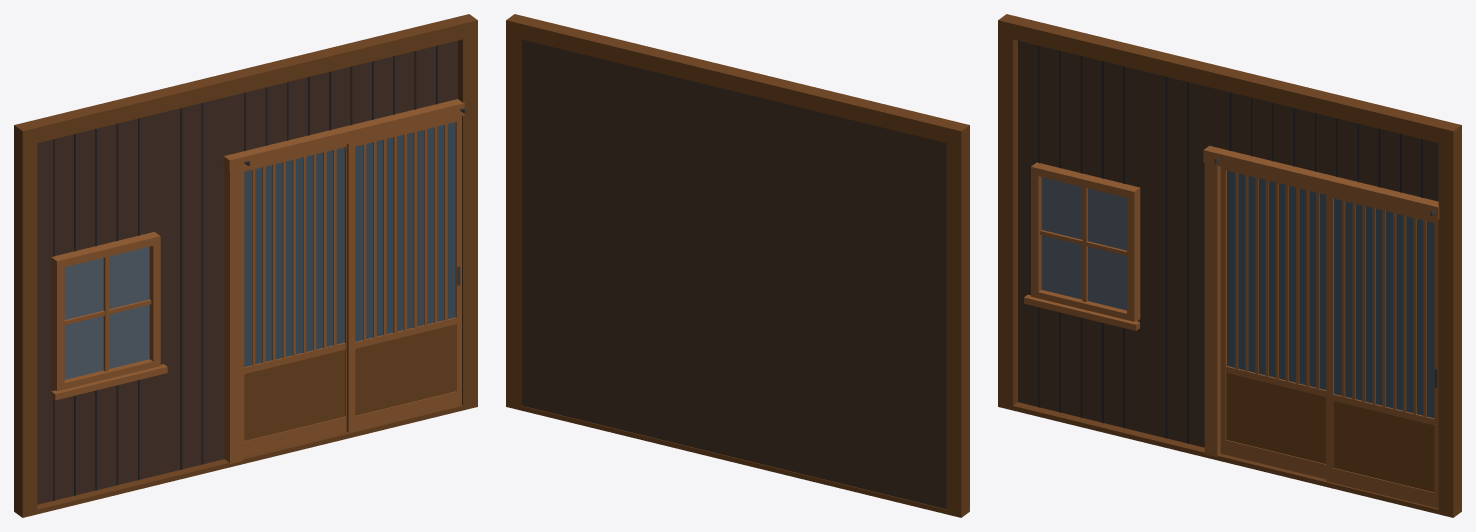
File: SM_Opening_ShopDinerS30_R_01.gltf
The picture shows the model from 3 angles, left to right: view 1: azimuth 30°, elevation 25°; view 2: azimuth 150°, elevation 25°; view 3: azimuth 330°, elevation 25°; orthographic projection.
Visible parts, largest first — view 1: SM_Opening_ShopDinerS30_R_01; view 2: SM_Opening_ShopDinerS30_R_01; view 3: SM_Opening_ShopDinerS30_R_01.
Part boxes in pixels (x1,y1,x2,y2): SM_Opening_ShopDinerS30_R_01: (14, 14, 477, 517); SM_Opening_ShopDinerS30_R_01: (506, 14, 969, 517); SM_Opening_ShopDinerS30_R_01: (998, 14, 1461, 517).
Size of the model in its own units: 3.08 by 2.5 by 0.155.
Materials: 1 (1 with a texture image).
